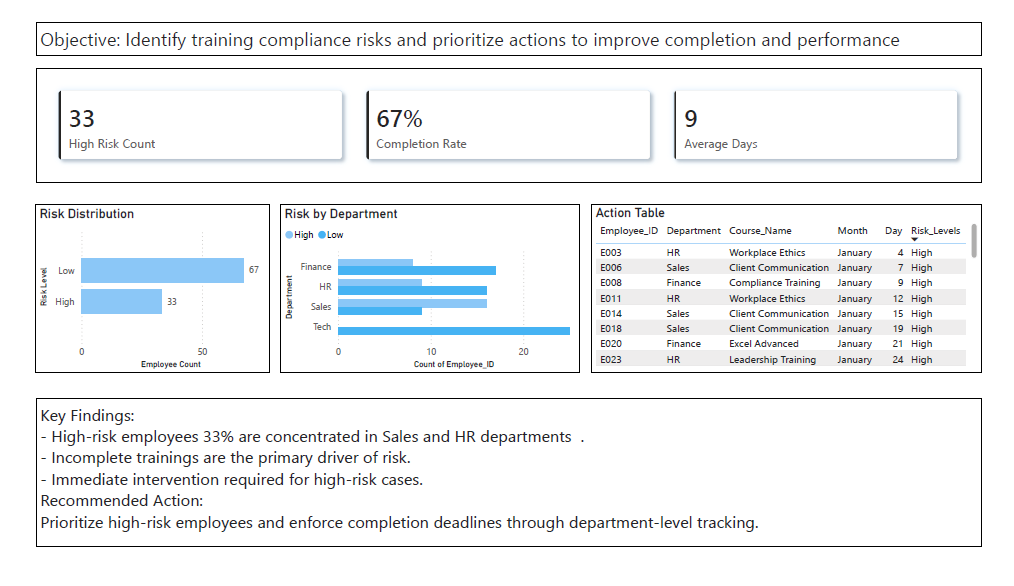

The page's visual inventory and layout, read from the dashboard file:
{"tool":"powerbi","page":{"name":"Risk & Action","canvas":[1280,720],"ordinal":2},"visuals":[{"type":"textbox","box":[28.3,10,1238.3,45],"z":0},{"type":"cardVisual","fields":{"Data":["Table1.High_Risk_Count","Table1.Completion_Rate","Table1.Avg_Days"]},"box":[27.5,70,1238.8,150],"z":1000},{"type":"clusteredBarChart","title":"Risk Distribution","fields":{"Category":["Table1.Risk_Levels"],"Y":["CountNonNull(Table1.Employee_ID)"]},"box":[27.3,248.9,308,221.6],"z":2000},{"type":"clusteredBarChart","title":"Risk by Department","fields":{"Category":["Table1.Department"],"Y":["CountNonNull(Table1.Employee_ID)"],"Series":["Table1.Risk_Levels"]},"box":[347.5,248.8,392.5,221.2],"z":3000},{"type":"tableEx","title":"Action Table","fields":{"Values":["Table1.Employee_ID","Table1.Department","Table1.Course_Name","Table1.Enrollment_Date.Variation.Date Hierarchy.Month","Table1.Enrollment_Date.Variation.Date Hierarchy.Day","Table1.Risk_Levels"]},"box":[755,248.3,511.7,221.7],"z":4000},{"type":"textbox","box":[28.3,503.3,1238.3,193.3],"z":5000}]}

Visuals, with their boxes in screenshot pixels (x1, y1, x2, y2), scaled from the page's 1280x720 canvas onto the 1014x586 screenshot:
textbox: x1=22 y1=8 x2=1003 y2=45
cardVisual - Table1.High_Risk_Count x Table1.Completion_Rate: x1=22 y1=57 x2=1003 y2=179
"Risk Distribution" clusteredBarChart: x1=22 y1=203 x2=266 y2=383
"Risk by Department" clusteredBarChart: x1=275 y1=202 x2=586 y2=383
"Action Table" tableEx: x1=598 y1=202 x2=1003 y2=383
textbox: x1=22 y1=410 x2=1003 y2=567
